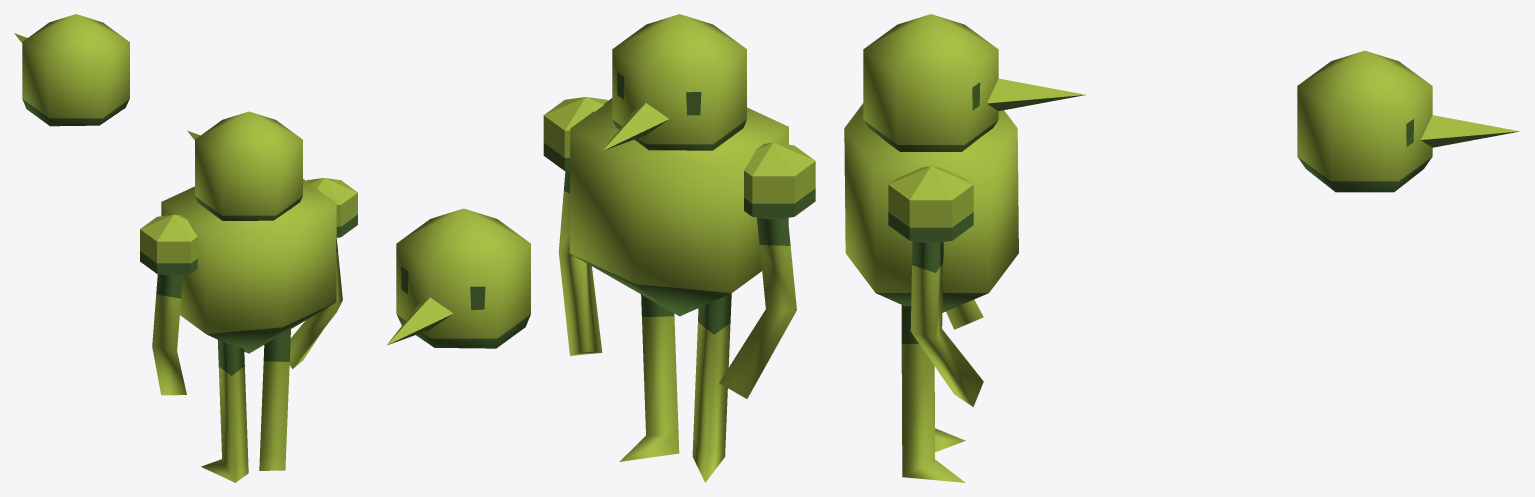
Rendered from player.fbx.
The picture shows the model from 3 angles, left to right: view 1: azimuth 30°, elevation 25°; view 2: azimuth 150°, elevation 25°; view 3: azimuth 270°, elevation 25°; orthographic projection. The views are drawn at different scales.
Parts seen in each view (by area): view 1: Mesh_Bugo.001, Mesh_BugoOnlyHead; view 2: Mesh_Bugo.001, Mesh_BugoOnlyHead; view 3: Mesh_Bugo.001, Mesh_BugoOnlyHead.
Part boxes in pixels (box(x1,y1,x2,y2)): Mesh_Bugo.001: box(140, 111, 357, 482); Mesh_BugoOnlyHead: box(14, 14, 129, 126); Mesh_Bugo.001: box(543, 14, 815, 482); Mesh_BugoOnlyHead: box(386, 208, 530, 348); Mesh_Bugo.001: box(844, 14, 1085, 482); Mesh_BugoOnlyHead: box(1297, 50, 1519, 192).
Bounding box in the file's own units: 1.34 × 3.11 × 2.27.
